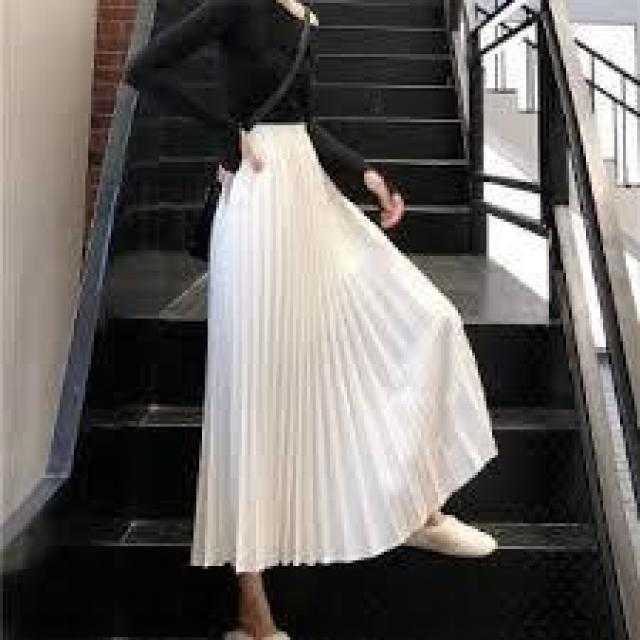skirt: (199, 119, 487, 569)
